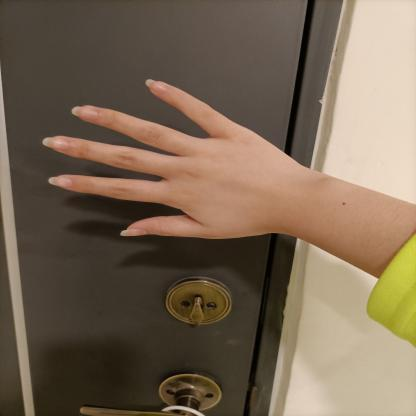bare_hand: (23, 64, 338, 276)
